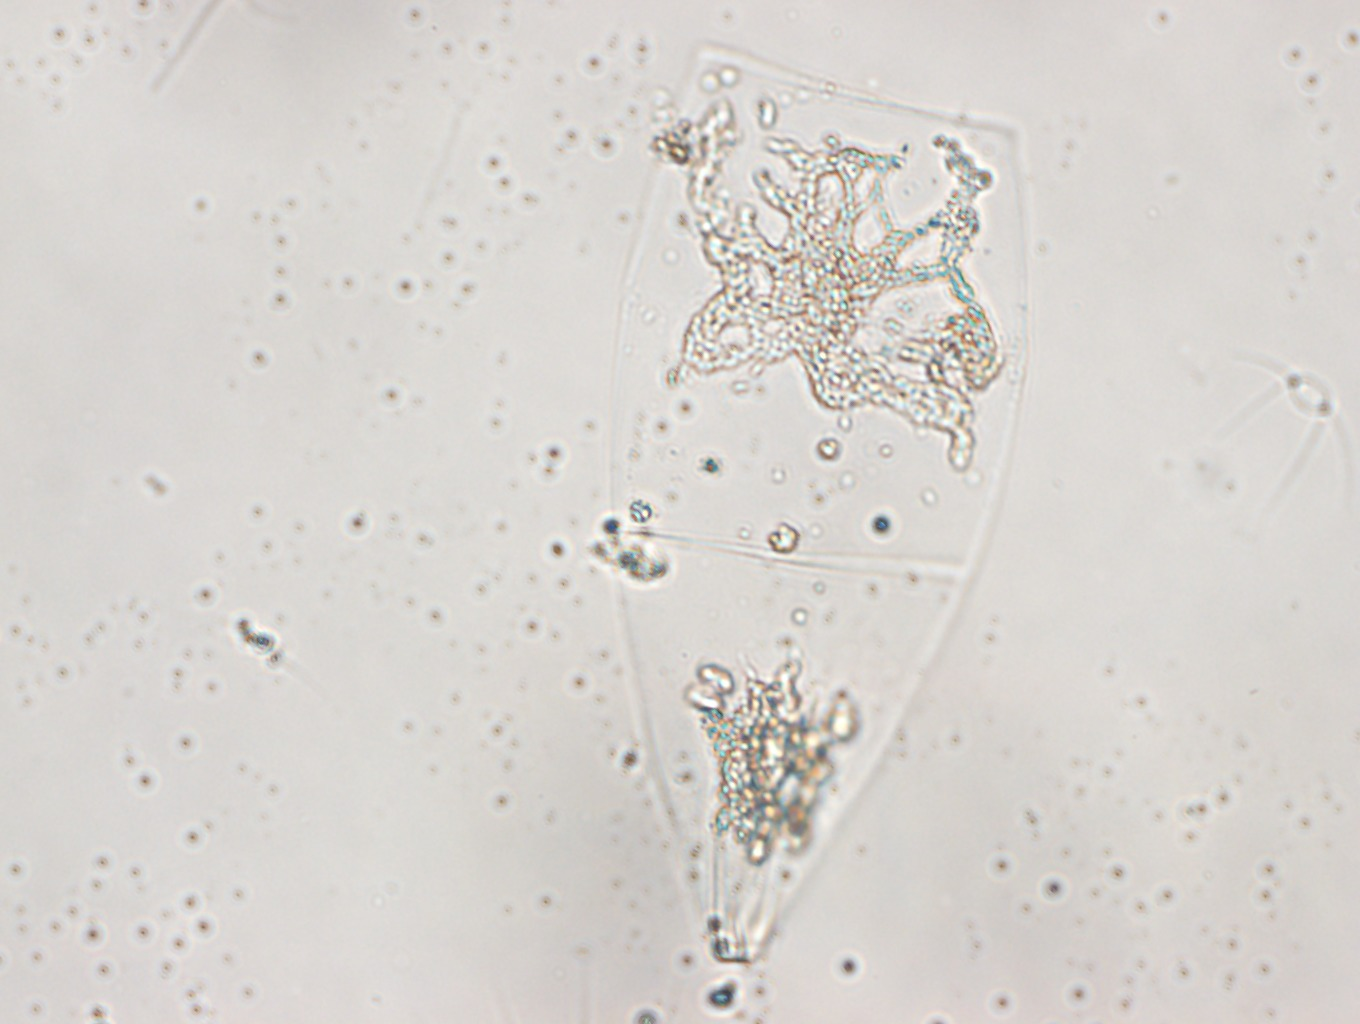chaetoceros: (1221, 345, 1354, 525)
helicotheca: (610, 41, 1030, 970)
